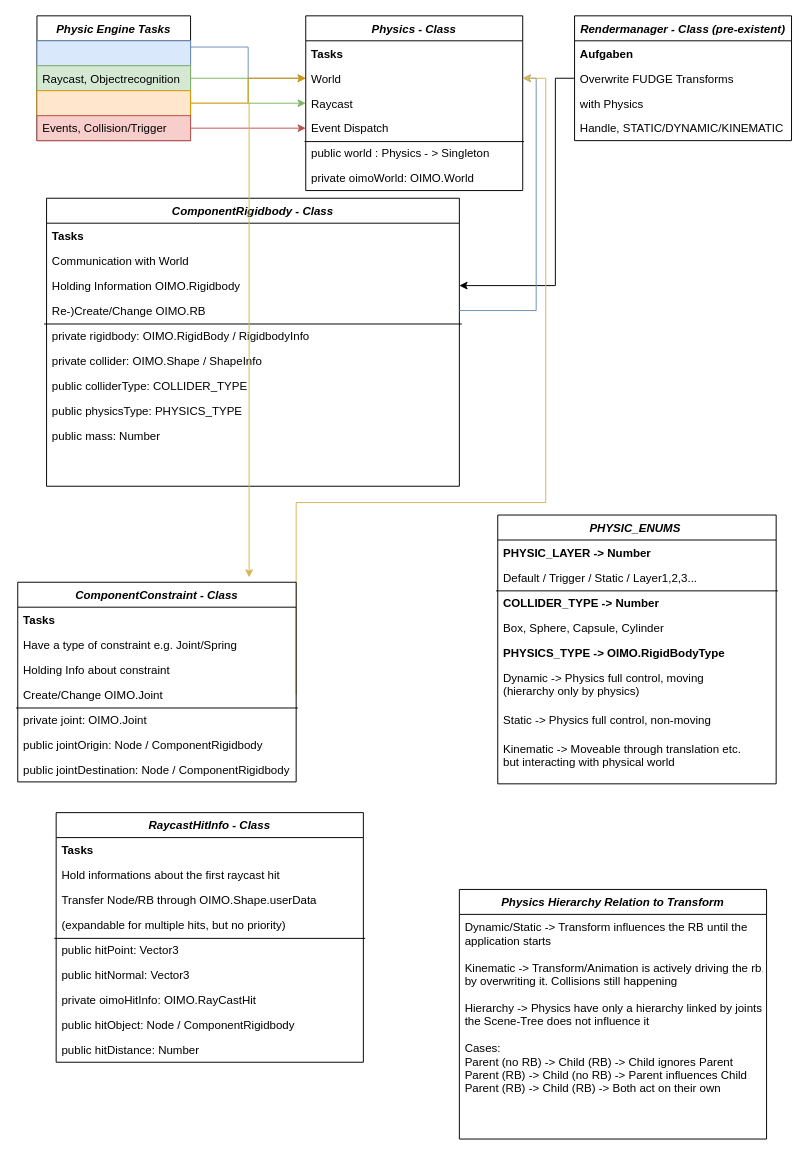
The diagram is 807 pixels wide and 1155 high, and some of its shapes have lost their labels. Here are the shapes that lost their labels. From the top down, the centre of each, then its label:
At (x=113, y=53): "Collision / Forces".
At (x=113, y=103): "Constraints Joints etc.".
